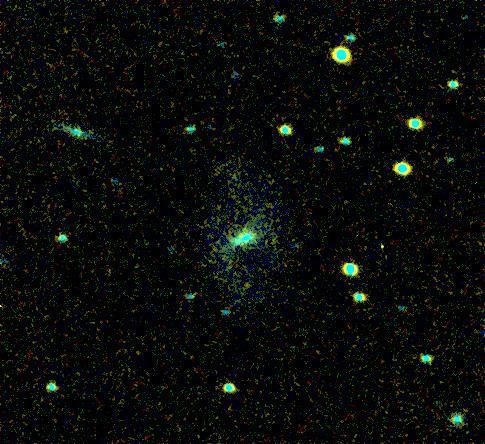star: (231, 271, 261, 301)
